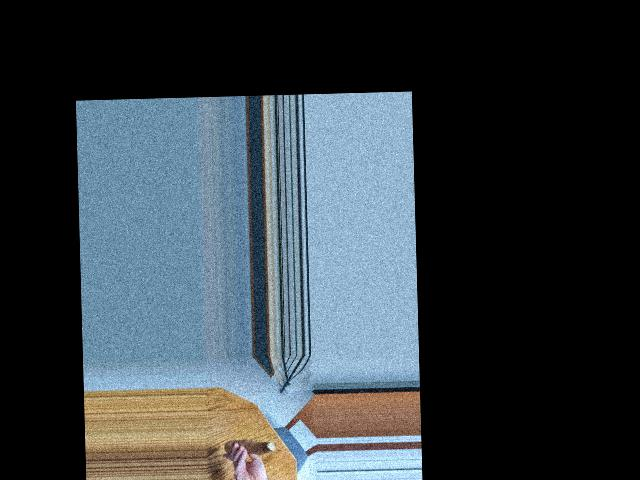sweet_potato: (228, 434, 269, 454)
